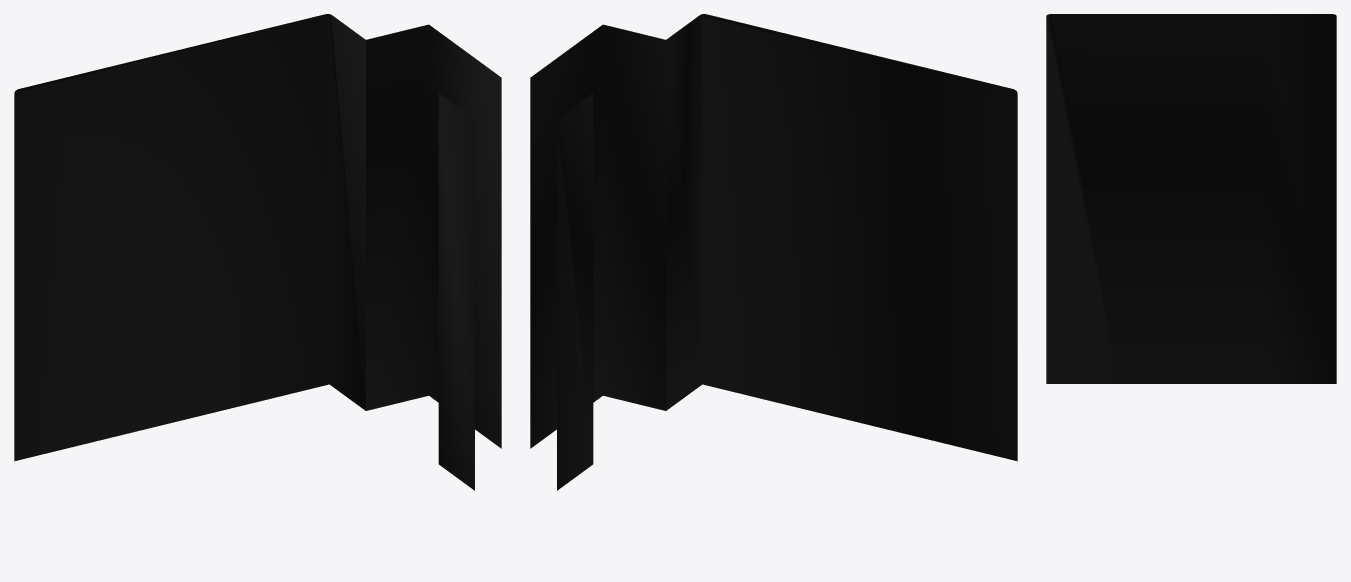
The model's file is scene_skybox_combined.glb.
3 views of the same model, side by side, from view 1: azimuth 30°, elevation 25°; view 2: azimuth 150°, elevation 25°; view 3: azimuth 270°, elevation 25° (orthographic).
Visible parts, largest first — view 1: scene-skybox-south, scene-skybox-north; view 2: scene-skybox-south, scene-skybox-north; view 3: scene-skybox-south.
Part boxes in pixels (x1=…): scene-skybox-south: x1=14, y1=14, x2=474, y2=490; scene-skybox-north: x1=366, y1=24, x2=501, y2=448; scene-skybox-south: x1=557, y1=14, x2=1017, y2=490; scene-skybox-north: x1=530, y1=24, x2=665, y2=448; scene-skybox-south: x1=1046, y1=14, x2=1336, y2=383.
Bounding box in the file's own units: 96 × 90 × 64.
Materials: 2 (2 with a texture image).
